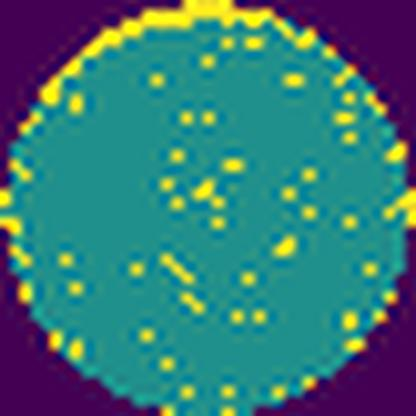Edge-Loc: (37, 0, 316, 105), (383, 183, 415, 235)
